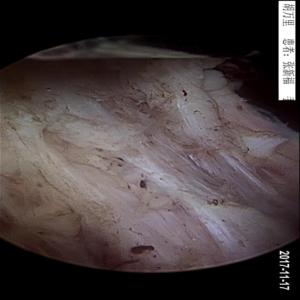film: (55, 91, 294, 252)
